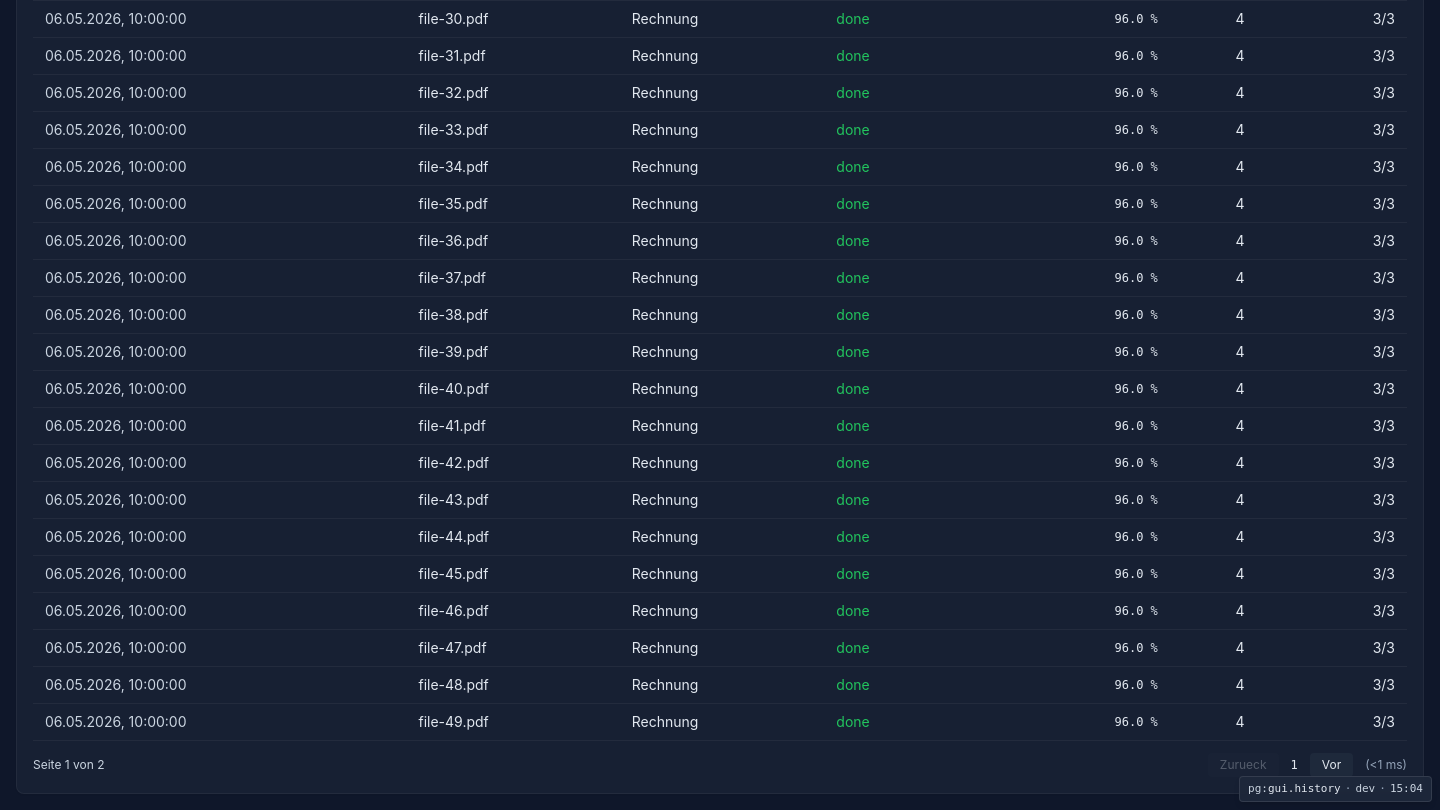
Test: HistoryTab › zeigt Pagination wenn Jobs > pageSize
This screenshot has width=1440, height=810.
(page scrolled)
Expected: the navigation bar with test id "history-pagination" is shown, 33,753 -> 1407,777
Expected: the text with test id "history-page-current" reads "1", 1290,758 -> 1298,772
Click the button with test id "history-page-next". click: (1332, 765)
box: 1310,753 -> 1353,777
(page scrolled)
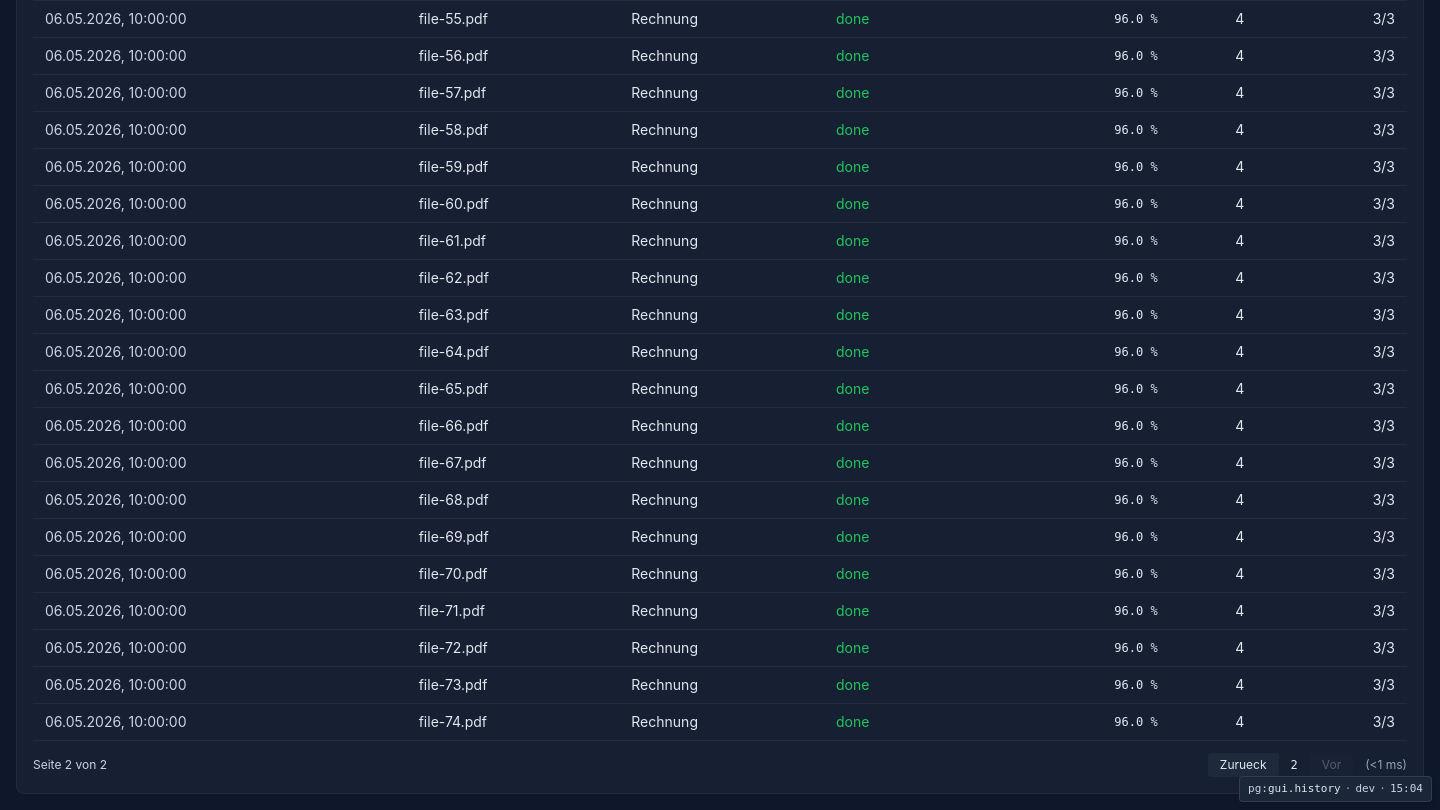
Result: the text with test id "history-page-current" reads "2" at 1290,758 -> 1298,772
